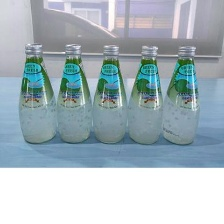bottle: (158, 43, 207, 146), (15, 40, 59, 144), (123, 43, 165, 146), (56, 41, 93, 146), (90, 43, 127, 147)
